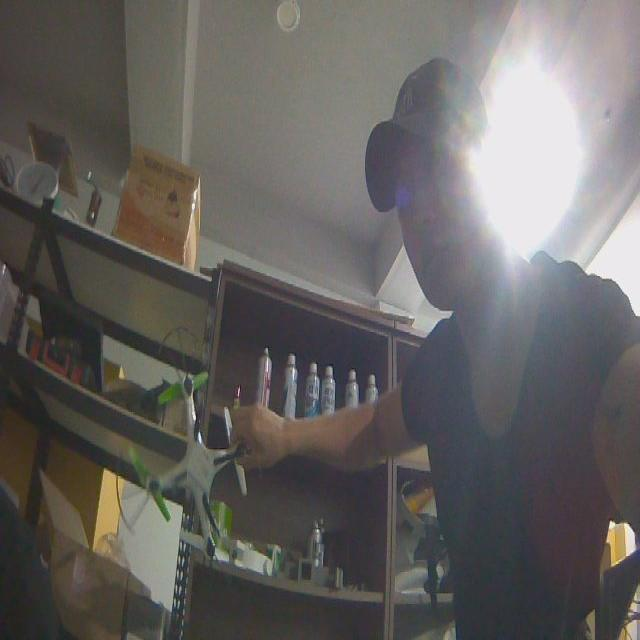drone: (115, 323, 266, 587)
